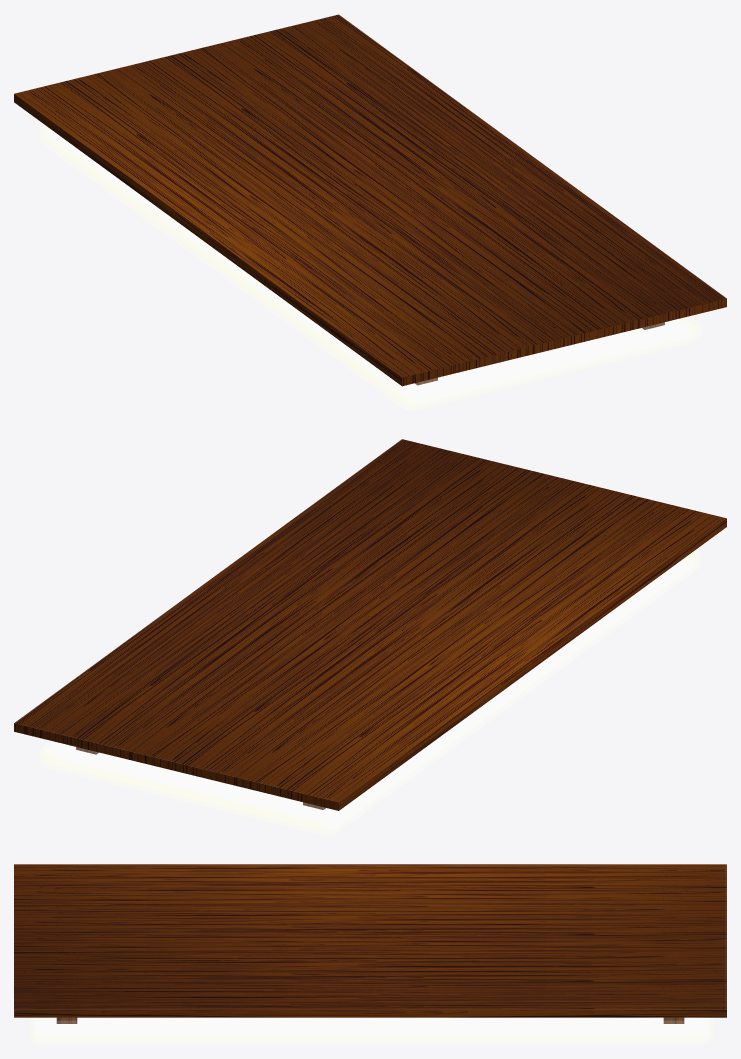
3 renders of one model, top to bottom at view 1: azimuth 30°, elevation 25°; view 2: azimuth 150°, elevation 25°; view 3: azimuth 270°, elevation 25°, orthographic. The views are drawn at different scales.
Visible parts, largest first — view 1: Base_1, Lamp_0; view 2: Base_1, Lamp_0; view 3: Base_1, Lamp_0.
Part boxes in pixels (box(x1,y1,x2,y2)): Base_1: box(14, 14, 726, 386); Lamp_0: box(40, 125, 700, 410); Base_1: box(14, 439, 726, 810); Lamp_0: box(40, 550, 700, 835); Base_1: box(14, 864, 726, 1023); Lamp_0: box(30, 1017, 712, 1044).
Size of the model in its own units: 0.7972 by 0.1117 by 1.65.
Materials: 2 (1 with a texture image).
